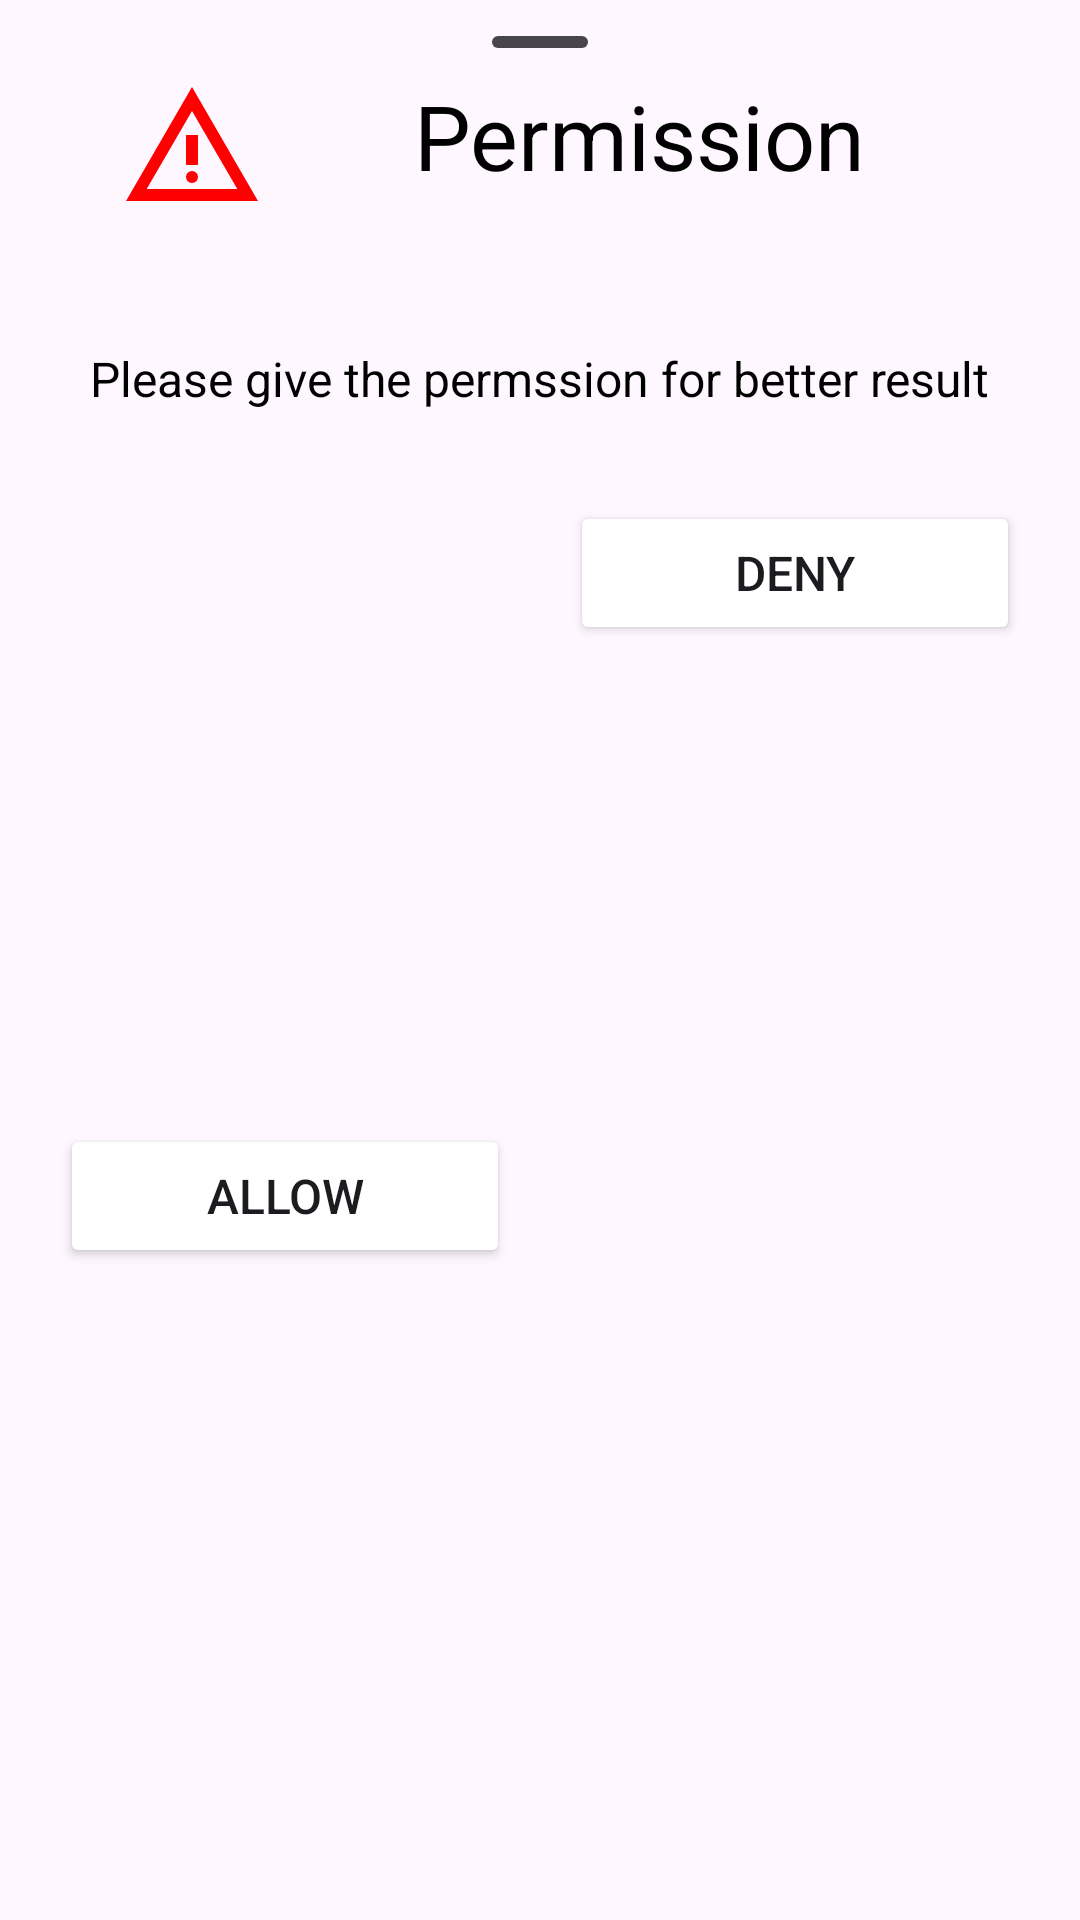

Icons on this 1080*1920 Android screen, each with its box as [x1, y1, x2, y2]:
warning: [126, 87, 258, 201]
